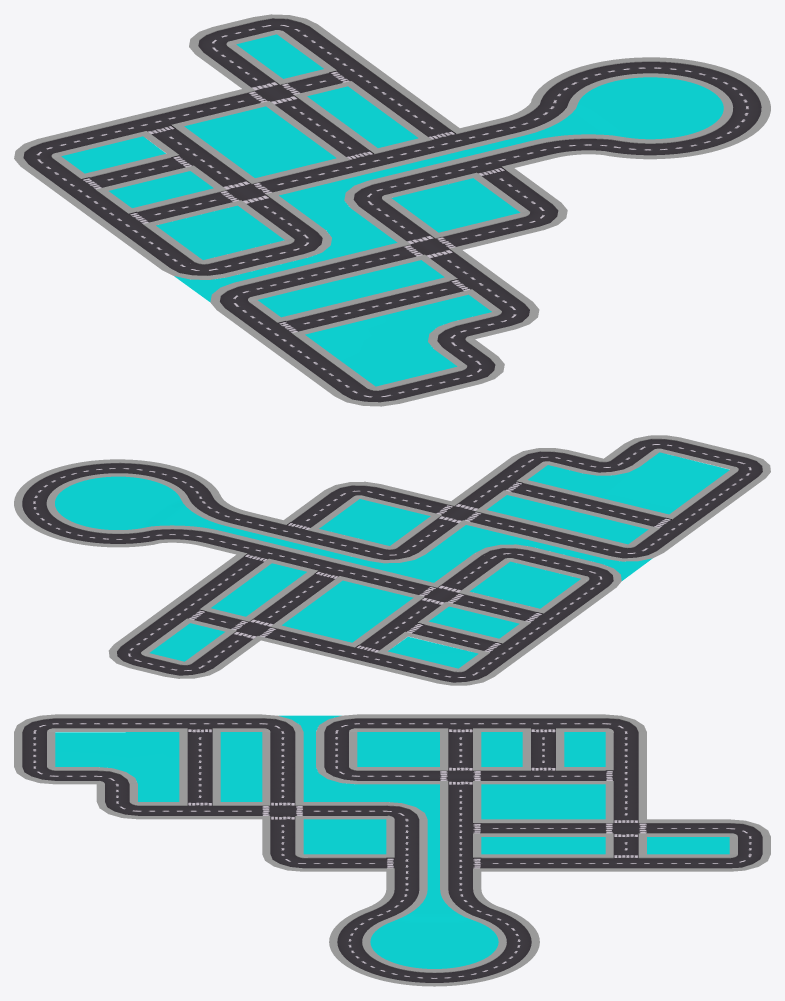
File: NewWorld2.fbx
The picture shows the model from 3 angles, top to bottom: view 1: azimuth 30°, elevation 25°; view 2: azimuth 150°, elevation 25°; view 3: azimuth 270°, elevation 25°; orthographic projection. The views are drawn at different scales.
Parts seen in each view (by area): view 1: pPlane220, polySurface3, pPlane141, pPlane133, polySurface5, pPlane139, pPlane138, pPlane137, pPlane132, pPlane136, pPlane135, polySurface1 (+3 smaller); view 2: pPlane220, polySurface3, pPlane141, pPlane133, polySurface5, pPlane139, pPlane138, pPlane137, pPlane132, pPlane136, pPlane135, polySurface1 (+3 smaller); view 3: pPlane220, polySurface3, pPlane141, pPlane133, polySurface5, pPlane138, pPlane139, pPlane137, pPlane132, pPlane135, pPlane136, polySurface1 (+3 smaller).
Boxes of the visible parts, left/top/right/bottom form: pPlane220: left=14, top=14, right=770, bottom=406; polySurface3: left=535, top=77, right=723, bottom=139; pPlane141: left=305, top=294, right=491, bottom=386; pPlane133: left=184, top=106, right=336, bottom=177; polySurface5: left=279, top=179, right=397, bottom=258; pPlane139: left=258, top=260, right=444, bottom=317; pPlane138: left=391, top=178, right=520, bottom=232; pPlane137: left=156, top=205, right=284, bottom=259; pPlane132: left=307, top=86, right=418, bottom=147; pPlane136: left=109, top=171, right=213, bottom=207; pPlane135: left=61, top=136, right=165, bottom=173; polySurface1: left=344, top=133, right=541, bottom=185; pPlane220: left=14, top=435, right=770, bottom=685; polySurface3: left=55, top=476, right=218, bottom=529; pPlane141: left=528, top=452, right=729, bottom=514; pPlane133: left=282, top=580, right=413, bottom=642; polySurface5: left=378, top=525, right=522, bottom=582; pPlane139: left=487, top=495, right=648, bottom=544; pPlane138: left=319, top=499, right=430, bottom=545; pPlane137: left=470, top=561, right=580, bottom=608; pPlane132: left=211, top=563, right=306, bottom=616; pPlane136: left=429, top=606, right=519, bottom=638; pPlane135: left=388, top=636, right=478, bottom=668; polySurface1: left=213, top=524, right=383, bottom=568; pPlane220: left=14, top=714, right=770, bottom=986; polySurface3: left=370, top=893, right=498, bottom=968; pPlane141: left=55, top=732, right=179, bottom=801; pPlane133: left=481, top=784, right=605, bottom=819; polySurface5: left=303, top=773, right=439, bottom=812; pPlane138: left=303, top=819, right=386, bottom=854; pPlane139: left=220, top=732, right=262, bottom=801; pPlane137: left=357, top=732, right=439, bottom=766; pPlane132: left=481, top=837, right=605, bottom=854; pPlane135: left=564, top=732, right=605, bottom=766; pPlane136: left=481, top=732, right=522, bottom=766; polySurface1: left=425, top=812, right=440, bottom=893.
Bounding box in the file's own units: 31090 × 59.83 × 36600.
5 materials, 3 textured.
